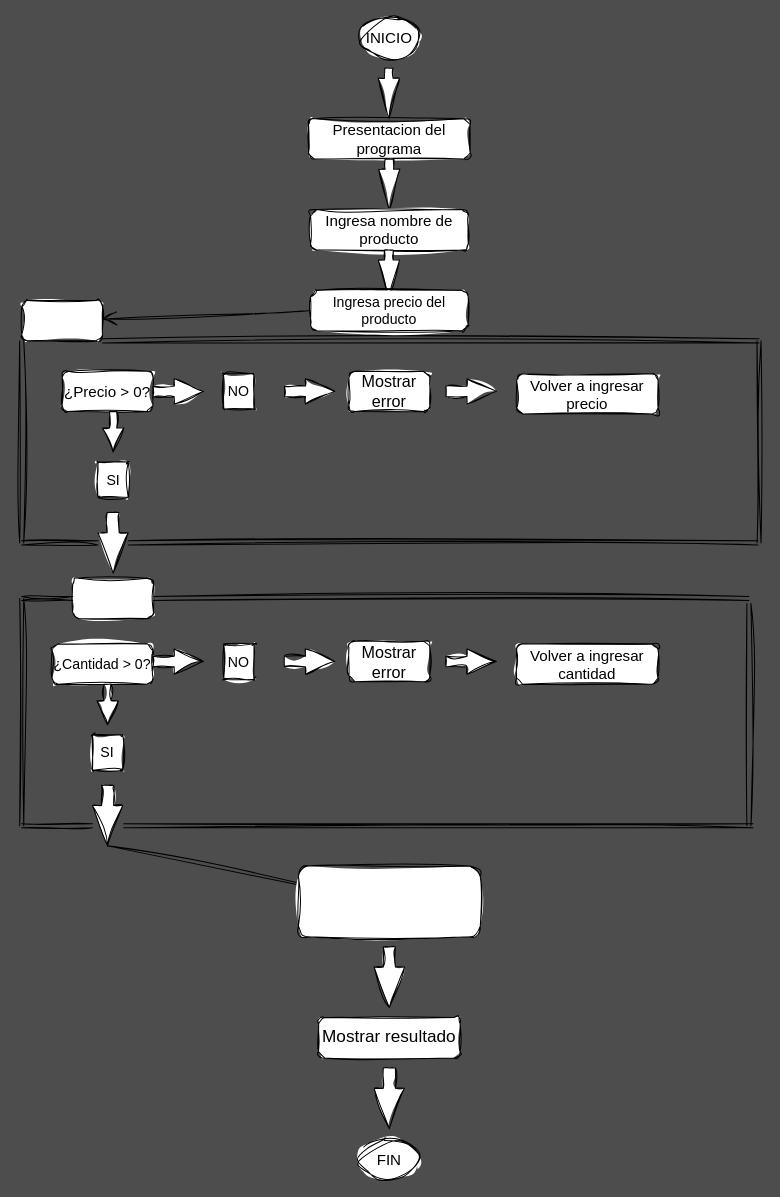
Image size: 780x1197. Some labels were removed from this diagram. Each missing label, with the box of its shape:
Calcular costo total Precio * Cantidad: (297, 865, 480, 937)
Validación de la cantidad: (72, 577, 154, 619)
Validación del precio: (21, 299, 103, 341)
